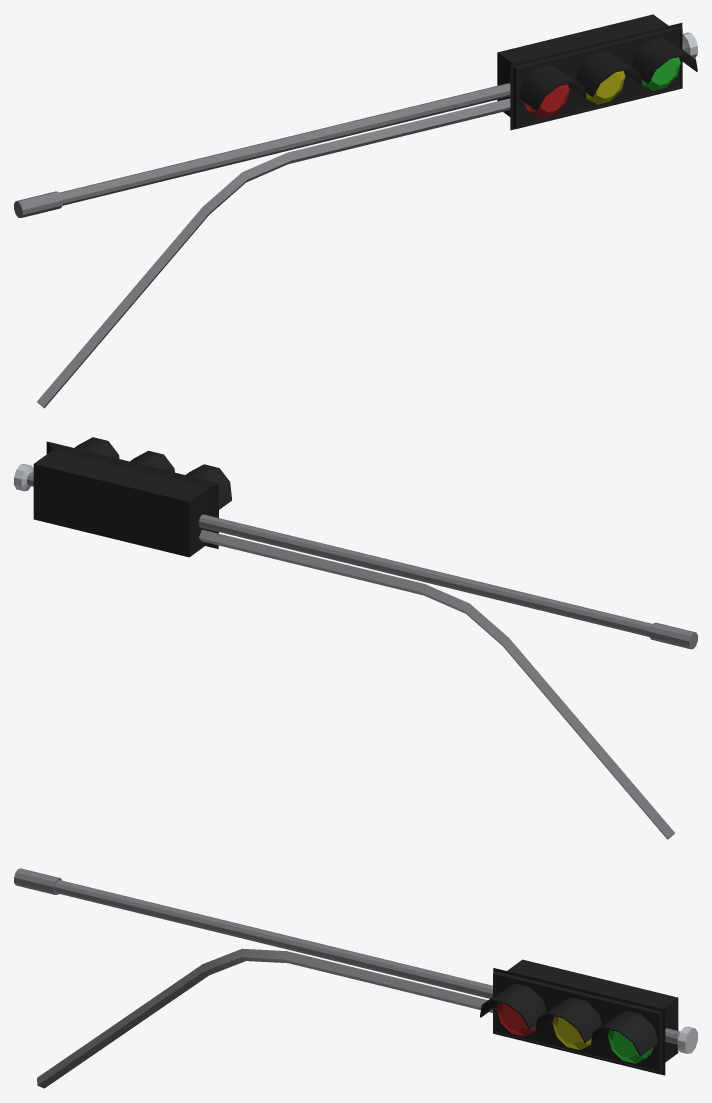
Rendered from SM_trafficlight_03.fbx.
3 renders of one model, top to bottom at view 1: azimuth 30°, elevation 25°; view 2: azimuth 150°, elevation 25°; view 3: azimuth 330°, elevation 25°, orthographic.
Visible parts, largest first — view 1: Object094; view 2: Object094; view 3: Object094.
Boxes of the visible parts, x1,y1,x2,y2 form: Object094: [14, 14, 697, 408]; Object094: [14, 437, 697, 839]; Object094: [14, 868, 697, 1088].
Size of the model in its own units: 148 by 17.34 by 50.06.
